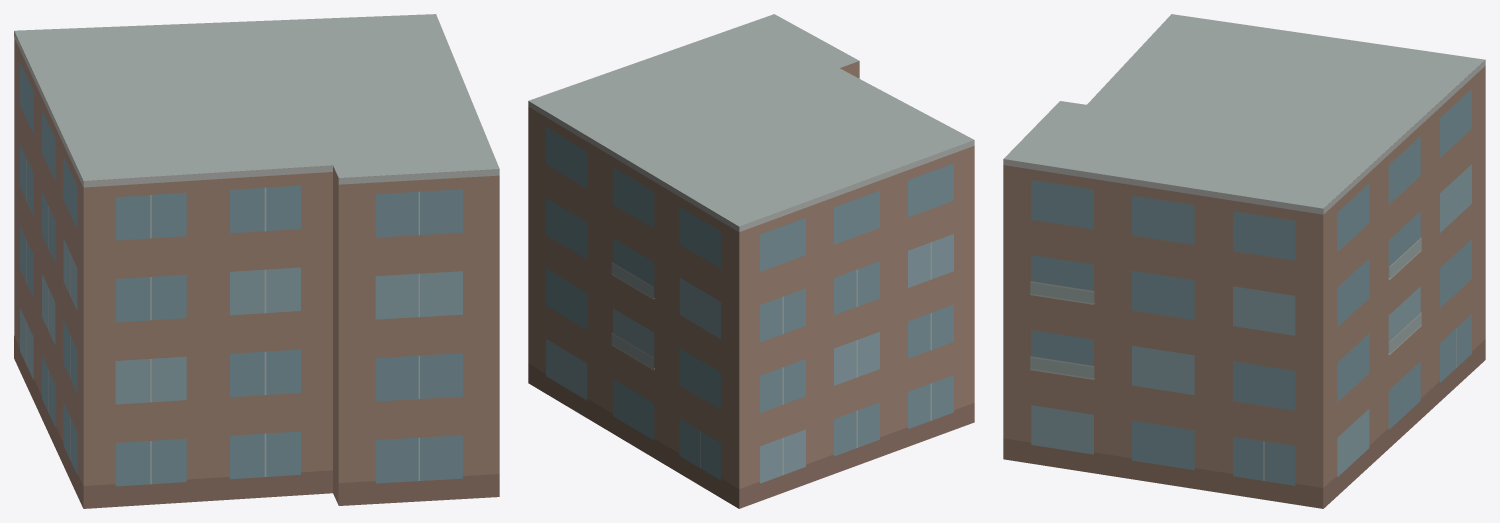
Rendered from survey-upis-33008564.glb.
3 renders of one model, left to right at view 1: azimuth 30°, elevation 25°; view 2: azimuth 150°, elevation 25°; view 3: azimuth 270°, elevation 25°, orthographic. The views are drawn at different scales.
Visible parts, largest first — view 1: survey-upis-33008564.tmp; view 2: survey-upis-33008564.tmp; view 3: survey-upis-33008564.tmp.
Part boxes in pixels (<box>): survey-upis-33008564.tmp: <box>14,14,499,508</box>; survey-upis-33008564.tmp: <box>528,14,974,508</box>; survey-upis-33008564.tmp: <box>1003,14,1485,508</box>.
Bounding box in the file's own units: 16.97 × 12.2 × 17.76.
